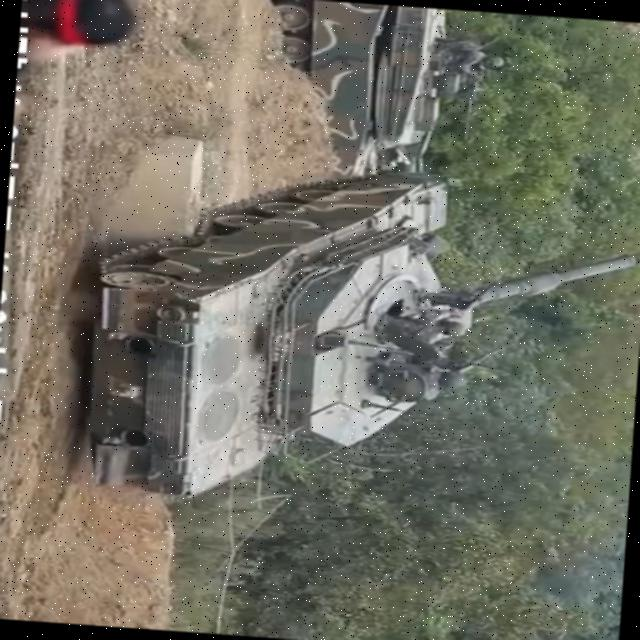korea tank: (81, 150, 640, 528)
